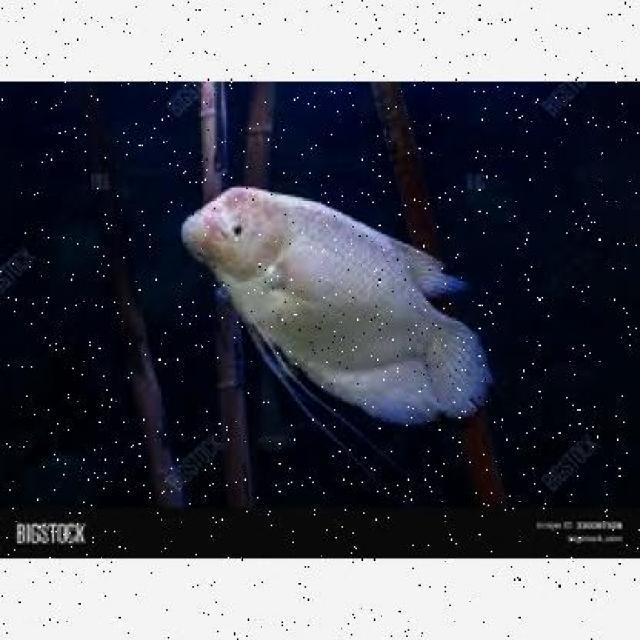gurame: (180, 180, 494, 423)
